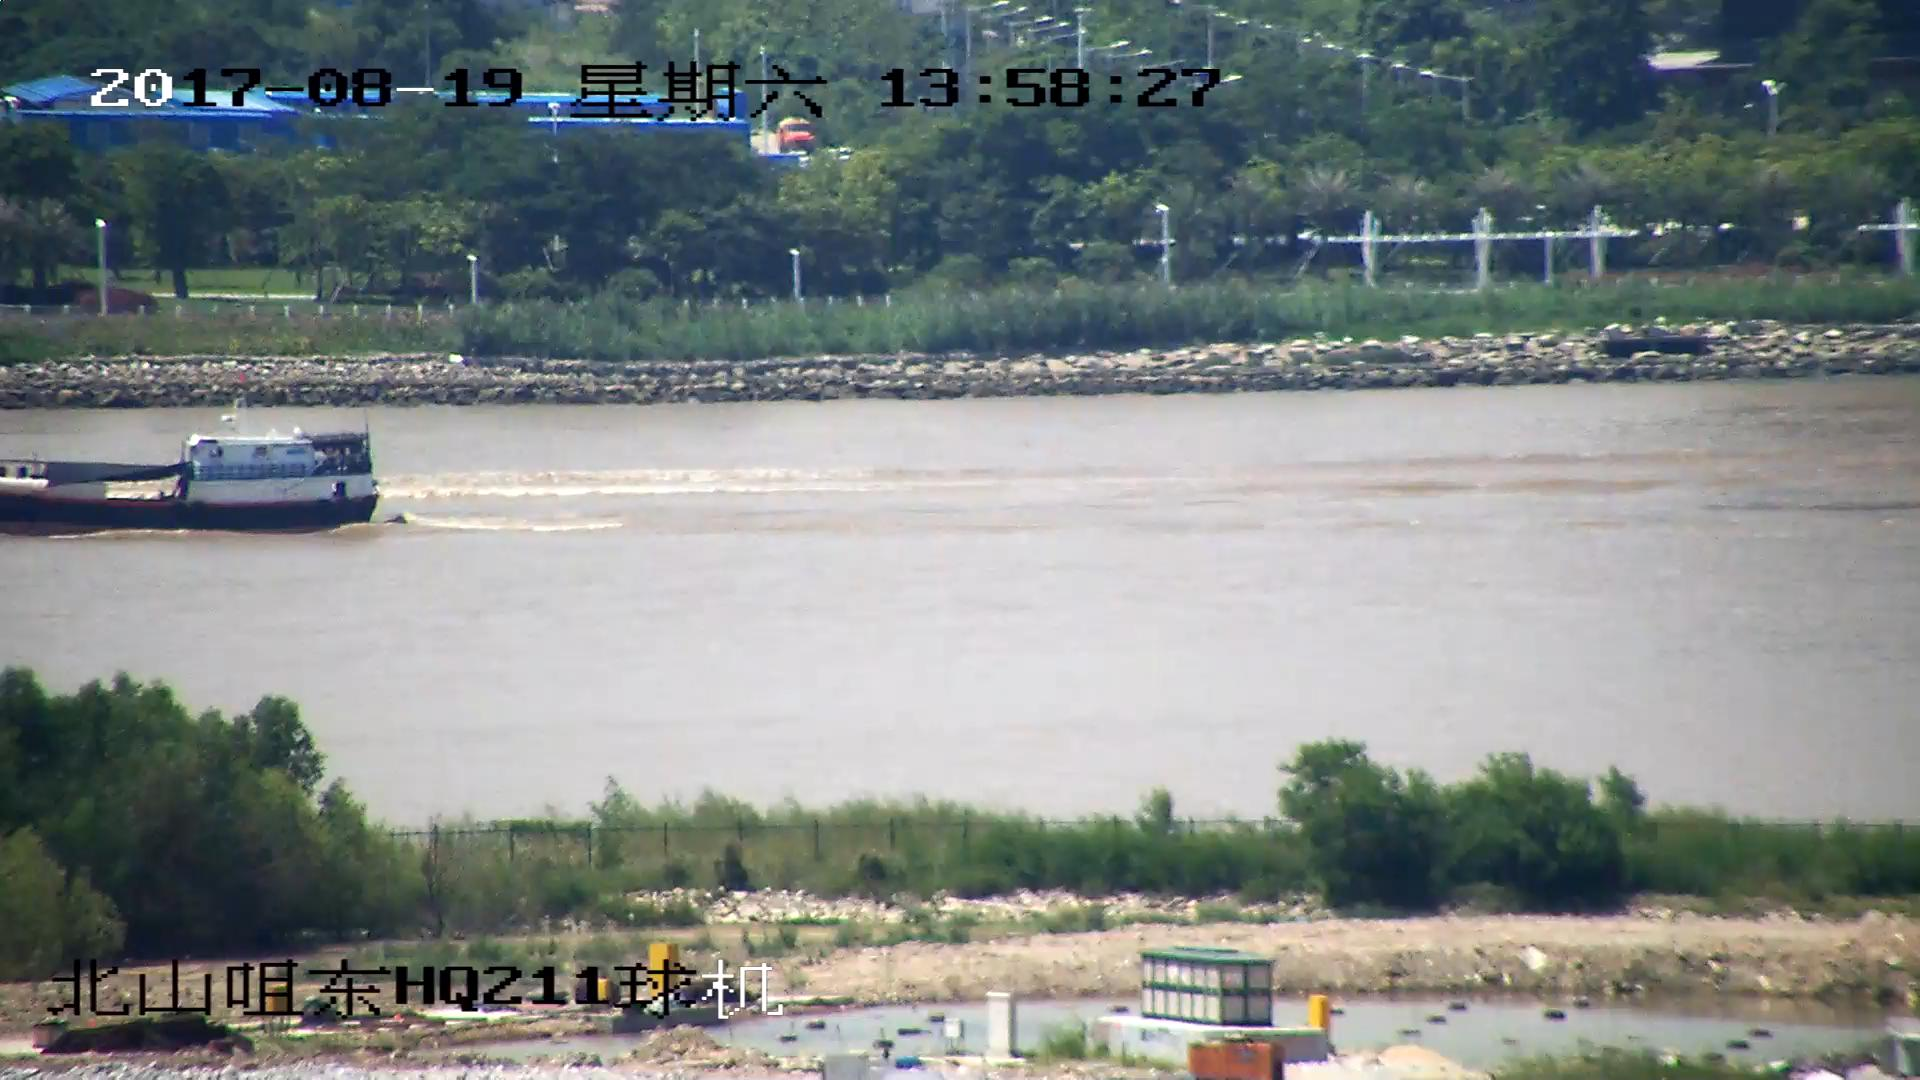fishing boat: (1, 432, 385, 532)
